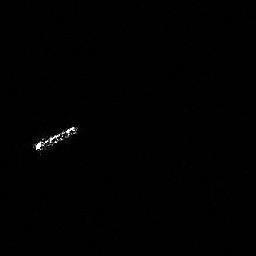ship: (29, 126, 80, 155)
